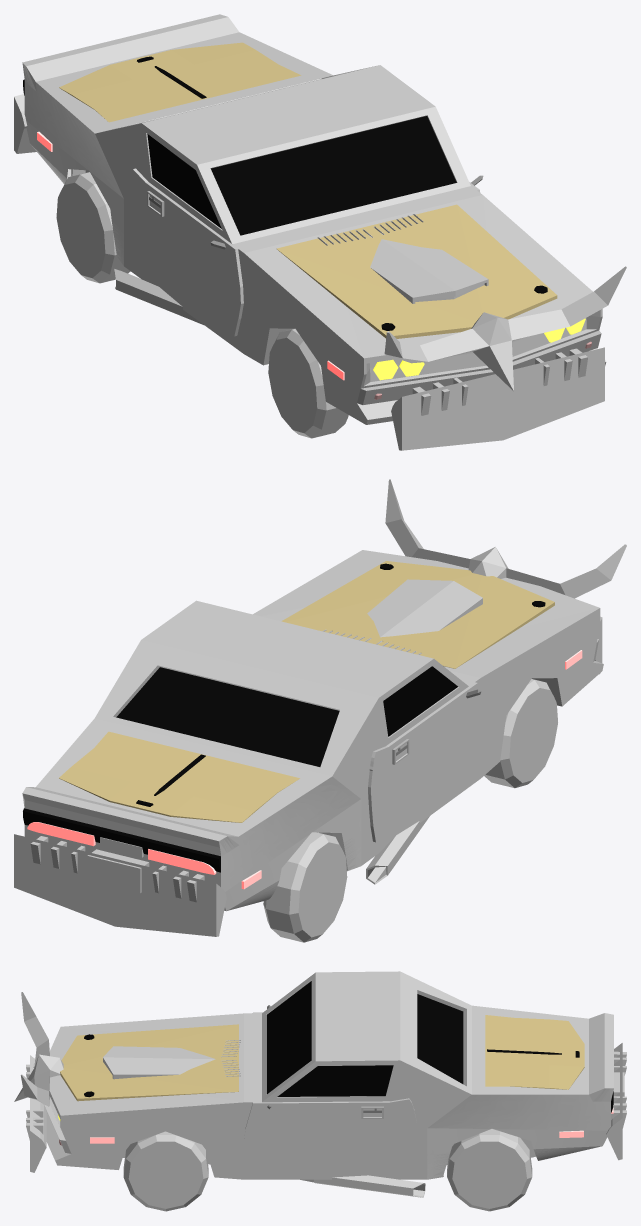
File: Mustang.fbx
3 renders of one model, top to bottom at view 1: azimuth 30°, elevation 25°; view 2: azimuth 150°, elevation 25°; view 3: azimuth 270°, elevation 25°, orthographic. The views are drawn at different scales.
Visible parts, largest first — view 1: Body, FrontTiresRight, BackTiresRight; view 2: Body, BackTiresRight, FrontTiresRight; view 3: Body, BackTiresLeft, FrontTiresLeft.
Part boxes in pixels (<box>): Body: <box>14,14,626,450</box>; FrontTiresRight: <box>268,328,348,438</box>; BackTiresRight: <box>56,172,130,283</box>; Body: <box>14,479,626,936</box>; BackTiresRight: <box>263,832,347,942</box>; FrontTiresRight: <box>484,679,557,788</box>; Body: <box>14,971,626,1197</box>; BackTiresLeft: <box>447,1129,532,1211</box>; FrontTiresLeft: <box>123,1131,208,1211</box>.
Bounding box in the file's own units: 230 × 160 × 582.
